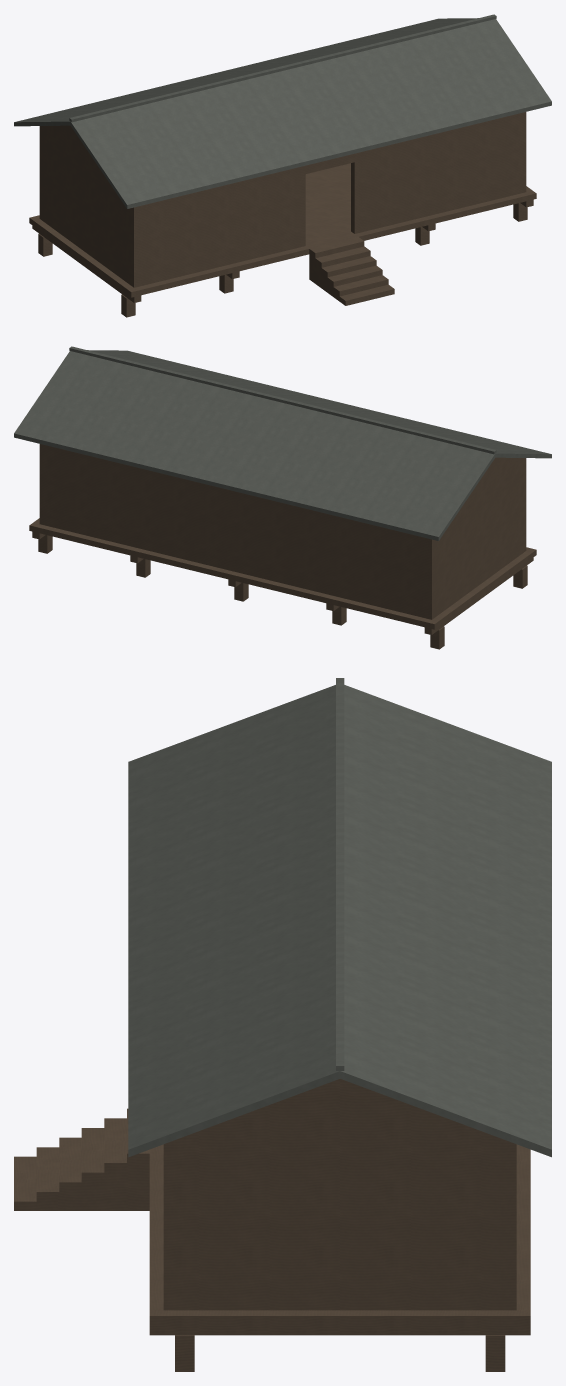
The model's file is granary-B-LOD1.glb.
3 views of the same model, one above another, from view 1: azimuth 30°, elevation 25°; view 2: azimuth 150°, elevation 25°; view 3: azimuth 270°, elevation 25° (orthographic). The views are drawn at different scales.
Parts seen in each view (by area): view 1: granary-B-static_timber, granary-B-static_tile; view 2: granary-B-static_tile, granary-B-static_timber; view 3: granary-B-static_tile, granary-B-static_timber.
Part boxes in pixels (x1,y1,x2,y2): granary-B-static_timber: [29, 112, 536, 317]; granary-B-static_tile: [14, 14, 551, 208]; granary-B-static_tile: [14, 346, 551, 540]; granary-B-static_timber: [29, 444, 536, 649]; granary-B-static_tile: [128, 678, 551, 1157]; granary-B-static_timber: [14, 1079, 530, 1371].
Size of the model in its own units: 13 by 4.95 by 7.62.
Materials: 3 (2 with a texture image).
